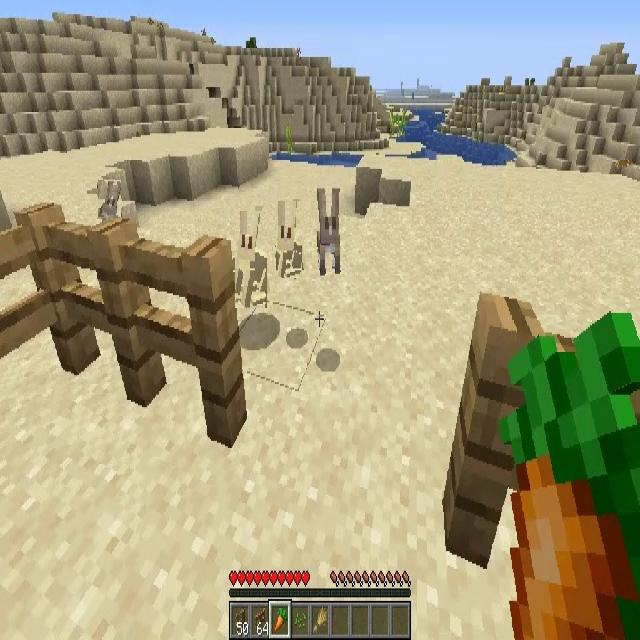rabbit: (235, 211, 267, 308), (313, 188, 341, 273), (276, 201, 302, 278), (98, 180, 121, 218)
